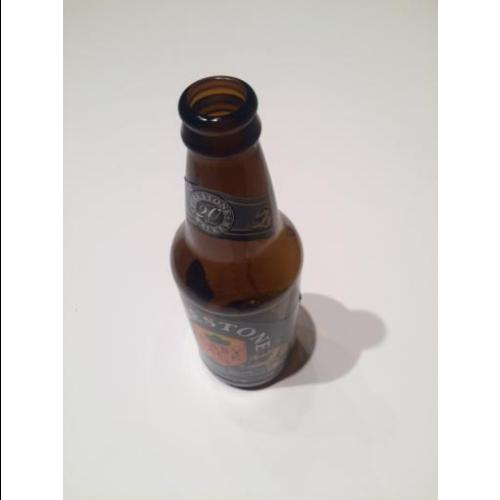glass: (170, 77, 304, 389)
